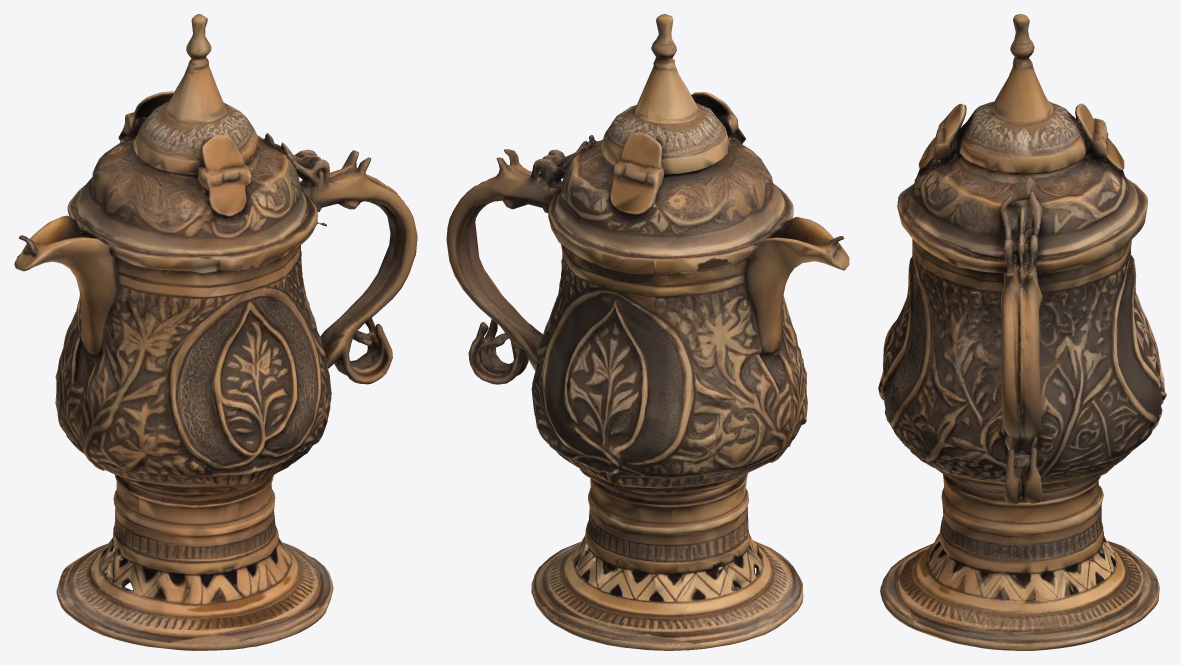
The model's file is samovar.glb.
3 views of the same model, side by side, from view 1: azimuth 30°, elevation 25°; view 2: azimuth 150°, elevation 25°; view 3: azimuth 270°, elevation 25° (orthographic).
Size of the model in its own units: 1.43 by 2 by 0.902.
Materials: 1 (1 with a texture image).
